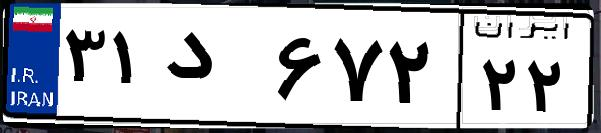1: (110, 28, 158, 98)
2: (385, 28, 445, 110), (475, 38, 525, 113), (525, 38, 570, 115)
3: (57, 26, 110, 100)
6: (270, 28, 330, 110)
7: (330, 28, 385, 110)
د: (158, 20, 270, 120)
